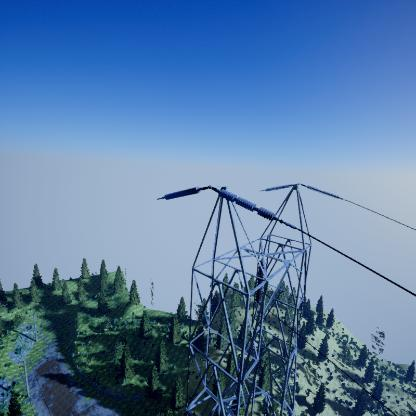insulator: (216, 187, 277, 222), (158, 187, 200, 201)
